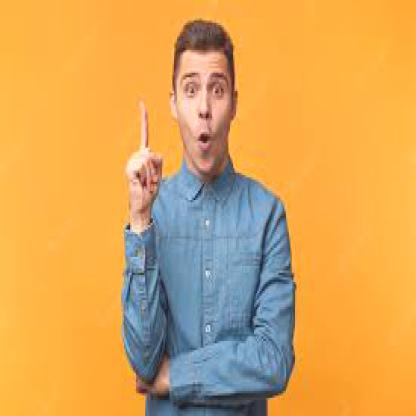Up: (123, 97, 163, 202)
